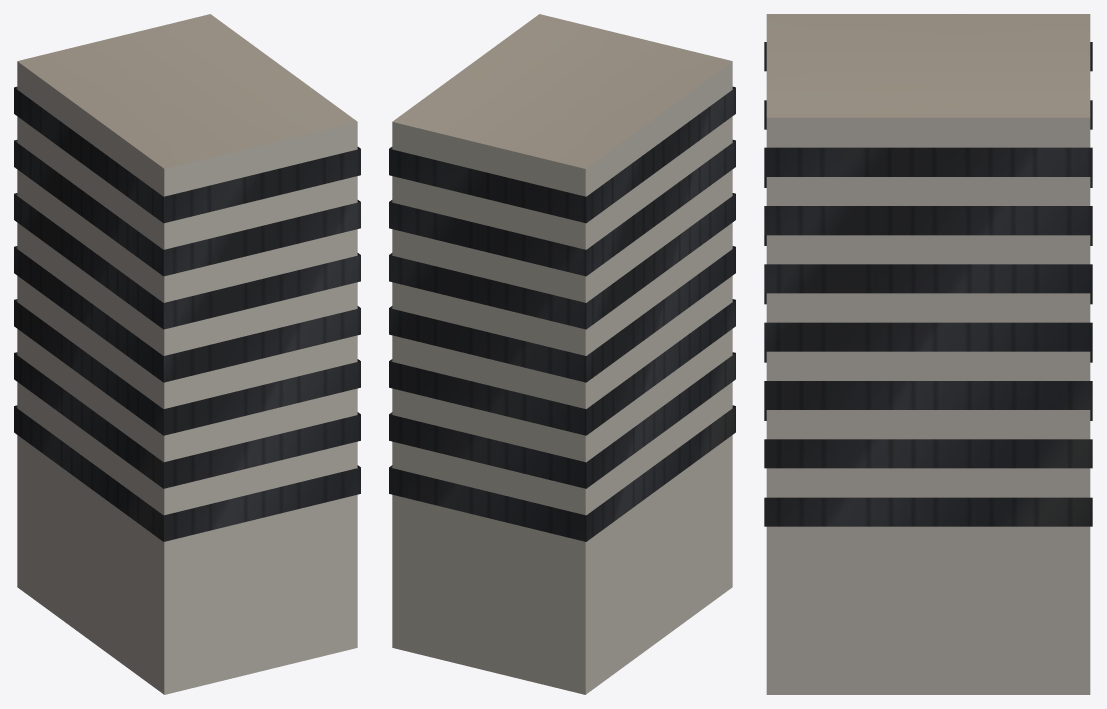
File: Bld_Building_J_low.fbx
3 renders of one model, left to right at view 1: azimuth 30°, elevation 25°; view 2: azimuth 150°, elevation 25°; view 3: azimuth 270°, elevation 25°, orthographic. The views are drawn at different scales.
Parts seen in each view (by area): view 1: Bld_Building_J_low; view 2: Bld_Building_J_low; view 3: Bld_Building_J_low.
Boxes of the visible parts, x1,y1,x2,y2 form: Bld_Building_J_low: [14, 14, 360, 694]; Bld_Building_J_low: [389, 14, 735, 694]; Bld_Building_J_low: [764, 14, 1092, 694].
Size of the model in its own units: 1020 by 2600 by 1340.
